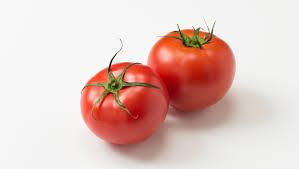tomato: (78, 61, 169, 144), (148, 31, 236, 113)
